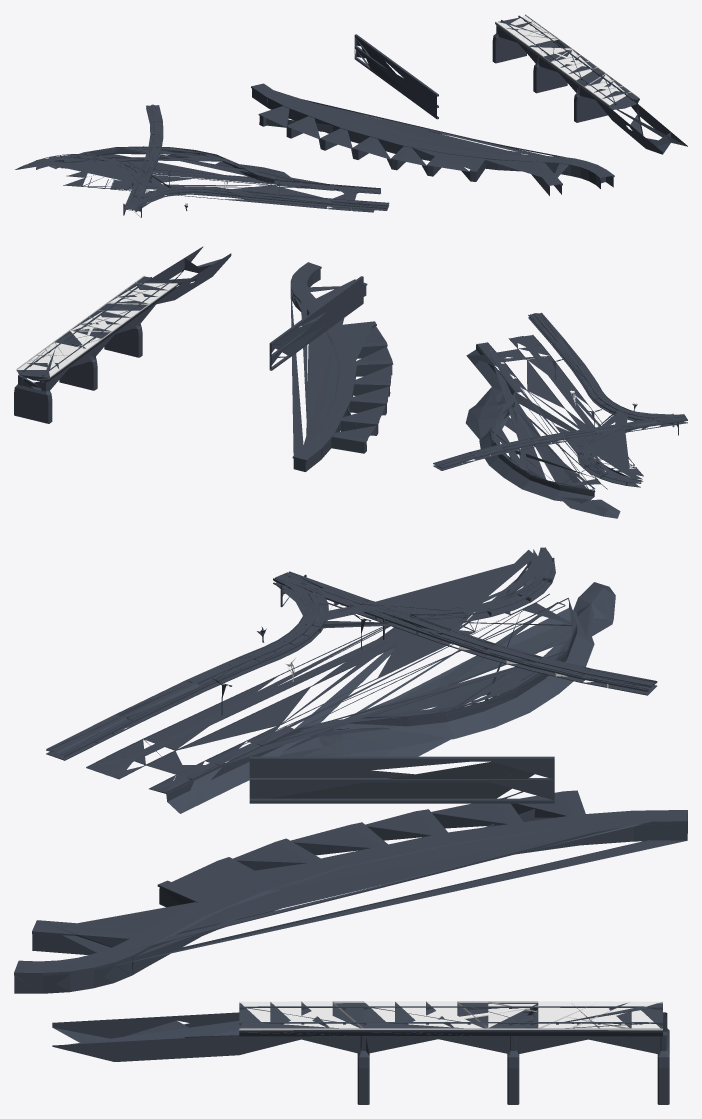
File: street_island1_06.glb
3 renders of one model, top to bottom at view 1: azimuth 30°, elevation 25°; view 2: azimuth 150°, elevation 25°; view 3: azimuth 270°, elevation 25°, orthographic. The views are drawn at different scales.
Visible parts, largest first — view 1: seg_686, seg_690, seg_1105, seg_1357, seg_537, seg_1508, seg_1501, seg_533, seg_1068, seg_1506, seg_1088, seg_1087 (+6 smaller); view 2: seg_686, seg_690, seg_1105, seg_537, seg_1357, seg_673, seg_1508, seg_533, seg_1501, seg_532, seg_1068, seg_1506 (+6 smaller); view 3: seg_686, seg_690, seg_1357, seg_1105, seg_1501, seg_673, seg_537, seg_1508, seg_1506, seg_533, seg_1068, seg_1497 (+6 smaller).
Part boxes in pixels (x1=…): seg_686: x1=251, y1=83, x2=614, y2=195; seg_690: x1=55, y1=147, x2=380, y2=212; seg_1105: x1=26, y1=154, x2=191, y2=212; seg_1357: x1=354, y1=34, x2=438, y2=119; seg_537: x1=495, y1=15, x2=605, y2=93; seg_1508: x1=495, y1=14, x2=605, y2=80; seg_1501: x1=579, y1=86, x2=687, y2=154; seg_533: x1=574, y1=74, x2=639, y2=122; seg_1068: x1=191, y1=186, x2=389, y2=208; seg_1506: x1=79, y1=146, x2=380, y2=188; seg_1088: x1=191, y1=187, x2=389, y2=210; seg_1087: x1=117, y1=160, x2=191, y2=210; seg_686: x1=290, y1=262, x2=393, y2=471; seg_690: x1=466, y1=335, x2=643, y2=501; seg_1105: x1=563, y1=402, x2=687, y2=487; seg_537: x1=16, y1=303, x2=140, y2=390; seg_1357: x1=269, y1=276, x2=363, y2=370; seg_673: x1=465, y1=387, x2=620, y2=518; seg_1508: x1=16, y1=303, x2=139, y2=377; seg_533: x1=104, y1=276, x2=177, y2=357; seg_1501: x1=110, y1=246, x2=231, y2=322; seg_532: x1=14, y1=374, x2=52, y2=423; seg_1068: x1=528, y1=312, x2=612, y2=405; seg_1506: x1=476, y1=344, x2=594, y2=491; seg_686: x1=14, y1=790, x2=687, y2=993; seg_690: x1=86, y1=593, x2=594, y2=813; seg_1357: x1=249, y1=756, x2=554, y2=803; seg_1105: x1=273, y1=547, x2=555, y2=642; seg_1501: x1=52, y1=1012, x2=360, y2=1061; seg_673: x1=279, y1=582, x2=615, y2=756; seg_537: x1=363, y1=1003, x2=662, y2=1104; seg_1508: x1=363, y1=1001, x2=662, y2=1030; seg_1506: x1=166, y1=597, x2=576, y2=792; seg_533: x1=239, y1=1003, x2=369, y2=1104; seg_1068: x1=46, y1=632, x2=310, y2=757; seg_1497: x1=367, y1=1012, x2=660, y2=1053.
Bounding box in the file's own units: 422 × 68.78 × 251.
